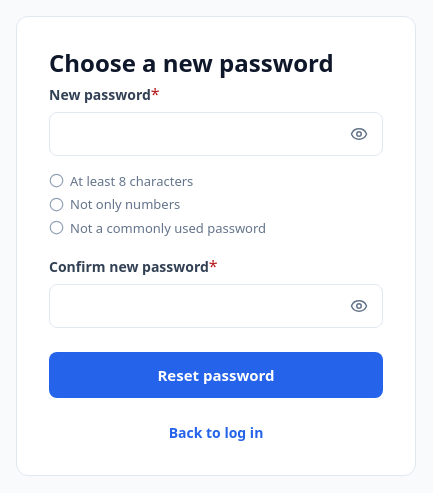
Test: ResetPasswordPage › exposes the inline password requirements + a reveal toggle on the new-password field
The image size is (433, 493).
Type "CorrectHorseBattery9" into the password field labelled "New password" at (216, 134), box [49, 112, 383, 156]
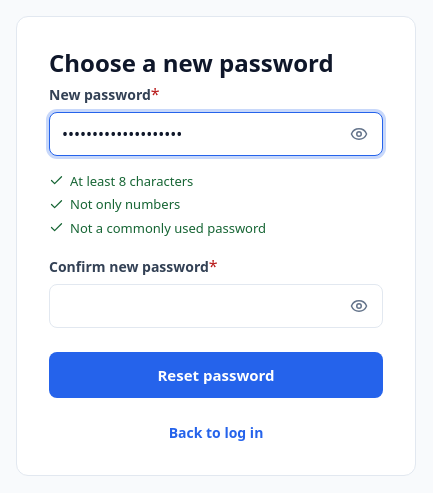
Click the 1st button named "Show password" at (359, 134), box [339, 114, 379, 154]
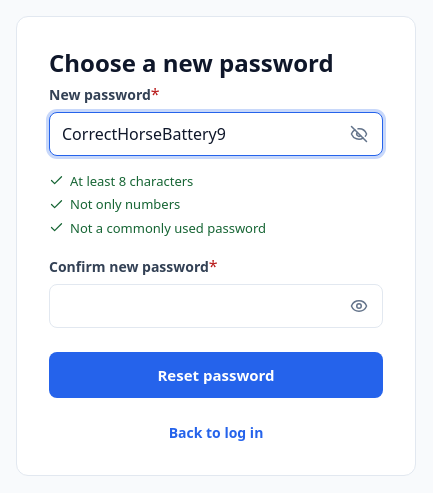
Now the field labelled "New password" shows its text, box [49, 112, 383, 156]
